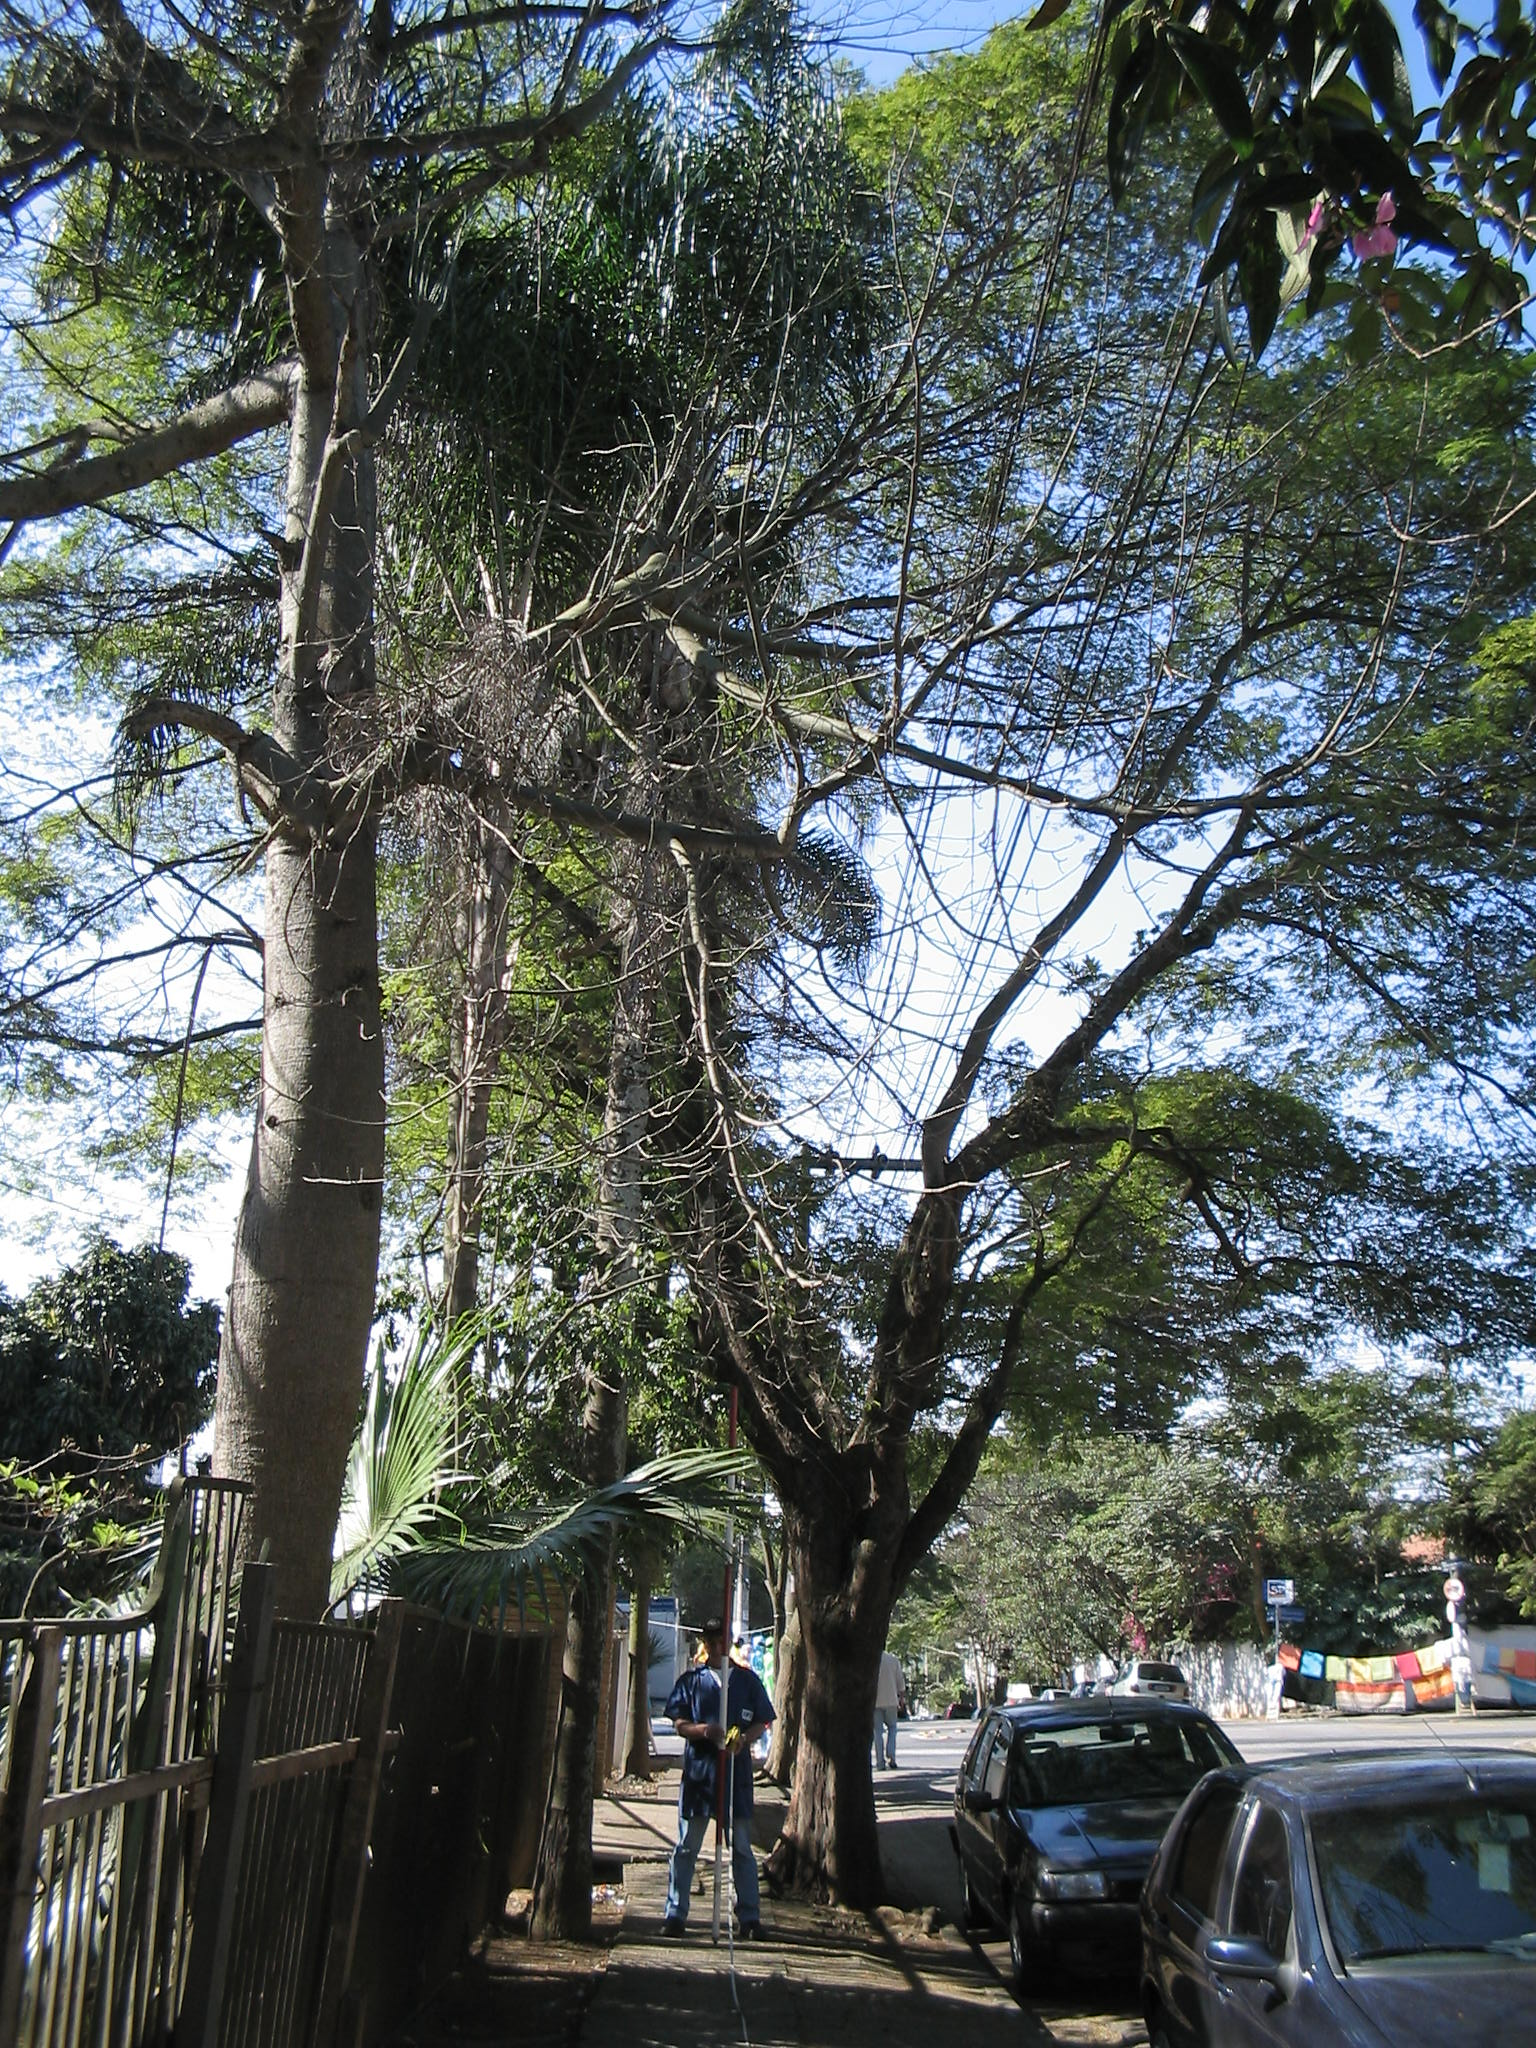crown: (53, 15, 1530, 1546)
stem: (763, 1619, 907, 1904)
stick: (700, 1385, 758, 1943)
tree: (40, 11, 1536, 1908)
